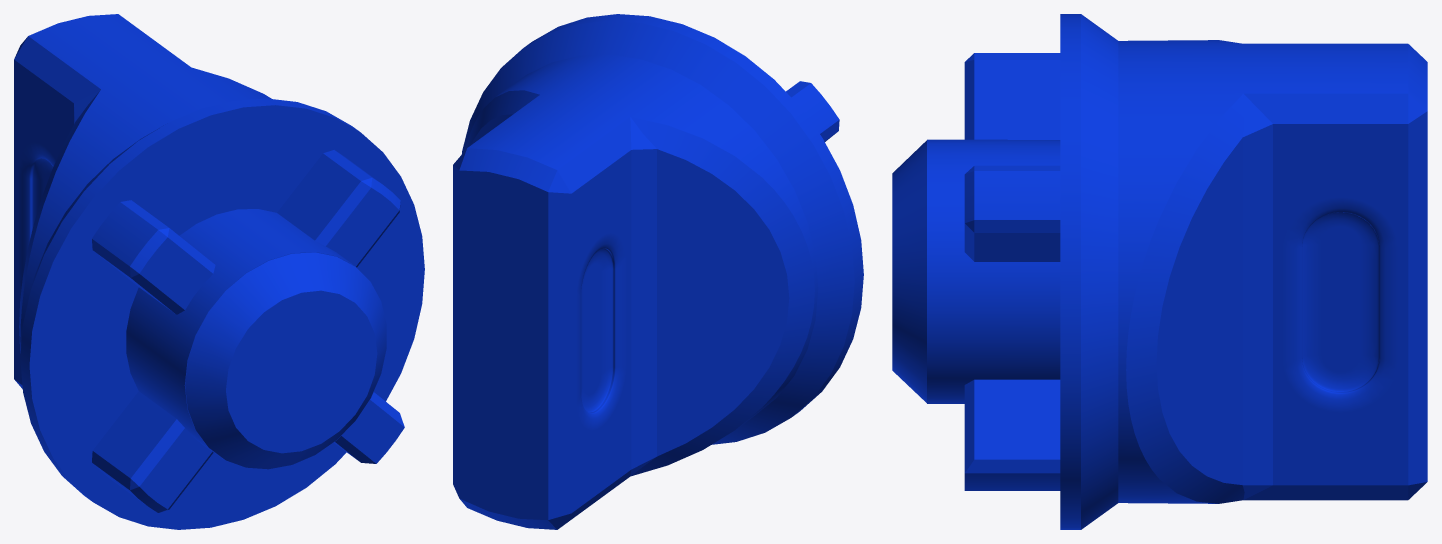
The model's file is P09 - Handle Connector v1.0 (0.2 Layer Height).obj.
3 renders of one model, left to right at view 1: azimuth 30°, elevation 25°; view 2: azimuth 150°, elevation 25°; view 3: azimuth 270°, elevation 25°, orthographic. The views are drawn at different scales.
Parts seen in each view (by area): view 1: Body1; view 2: Body1; view 3: Body1.
Boxes of the visible parts, left/top/right/bottom form: Body1: left=14, top=14, right=424, bottom=529; Body1: left=453, top=14, right=863, bottom=529; Body1: left=892, top=14, right=1427, bottom=529.
Bounding box in the file's own units: 2.67 × 2.66 × 2.77.
